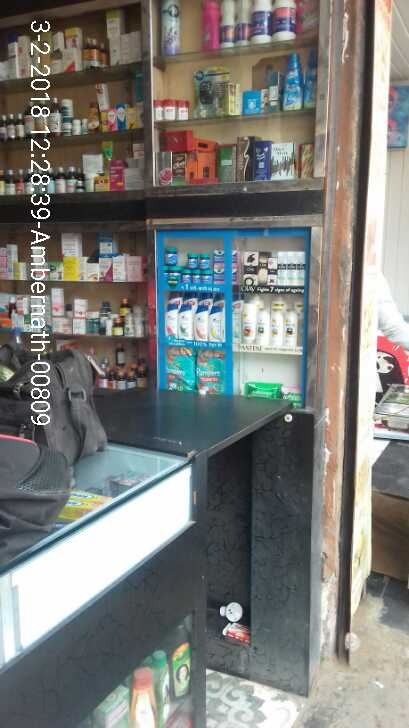beauty: (272, 253, 307, 288), (231, 302, 256, 347), (172, 298, 193, 339), (191, 302, 209, 345), (206, 308, 226, 344), (253, 305, 269, 348), (241, 246, 256, 287), (269, 306, 282, 348), (280, 311, 295, 345), (161, 300, 174, 338), (266, 256, 279, 287)
pharmacy: (198, 343, 236, 398), (162, 338, 198, 394), (169, 264, 216, 287), (241, 379, 275, 405), (164, 241, 179, 265), (185, 253, 208, 267)
